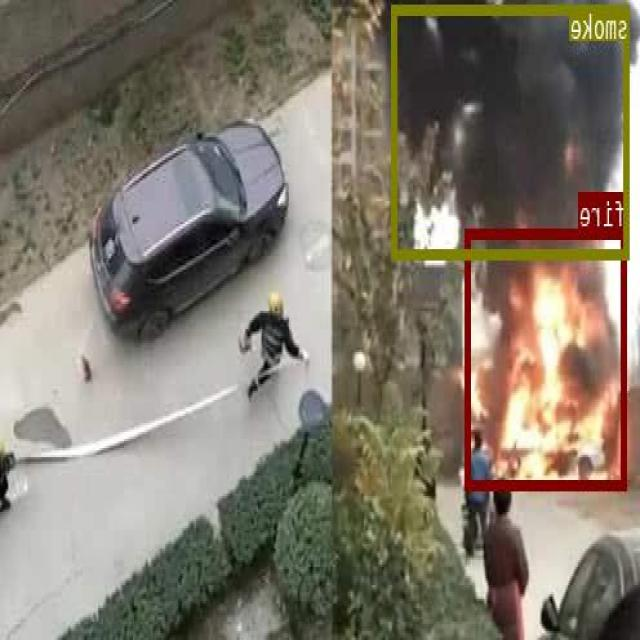fire: (466, 228, 628, 488)
smoke: (392, 4, 630, 258)
